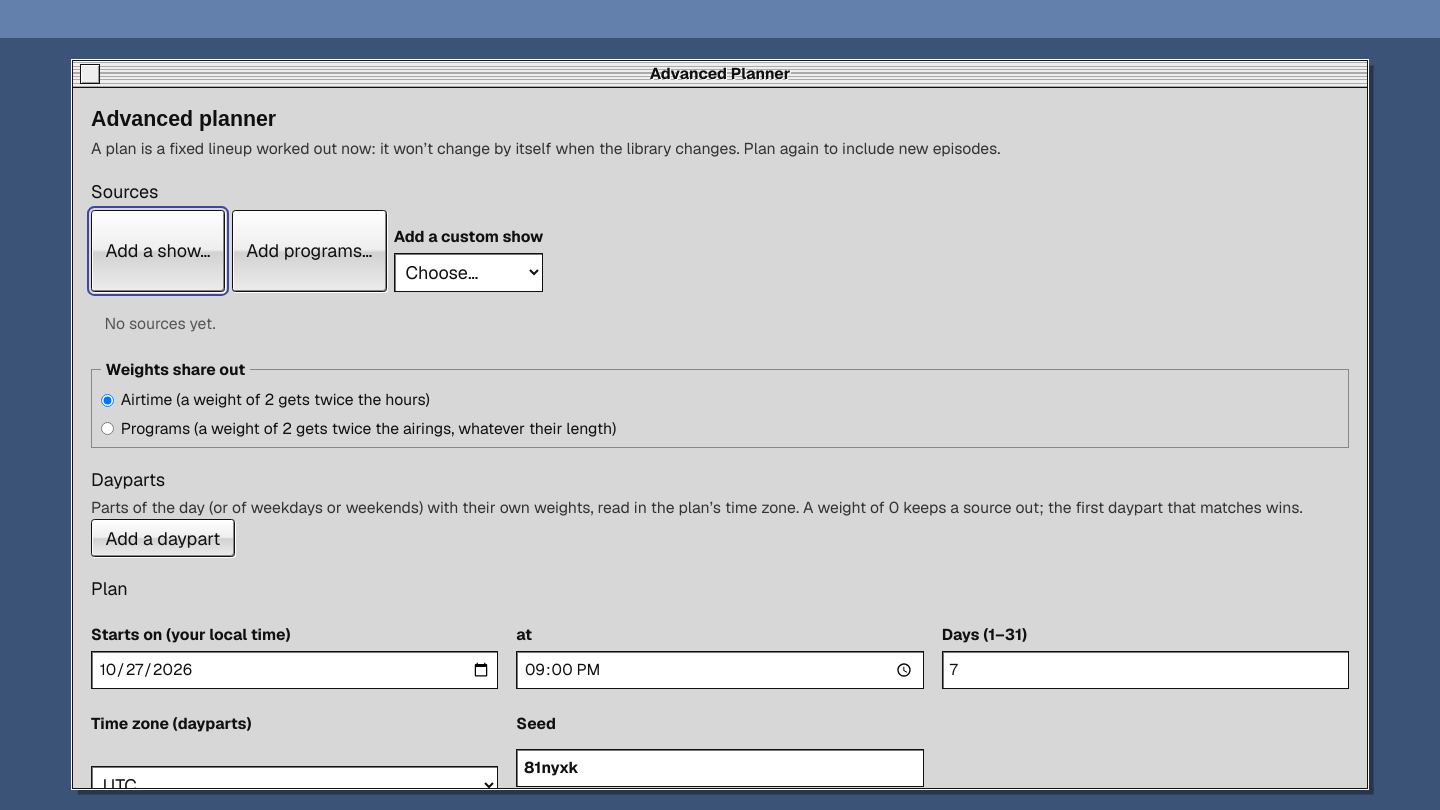
Test: PlannerDialog › explains and refuses to save a plan the limit cut short
Select "Sitcoms" in the dropdown labelled "Add a custom show" at (469, 273), box [394,253,543,292]
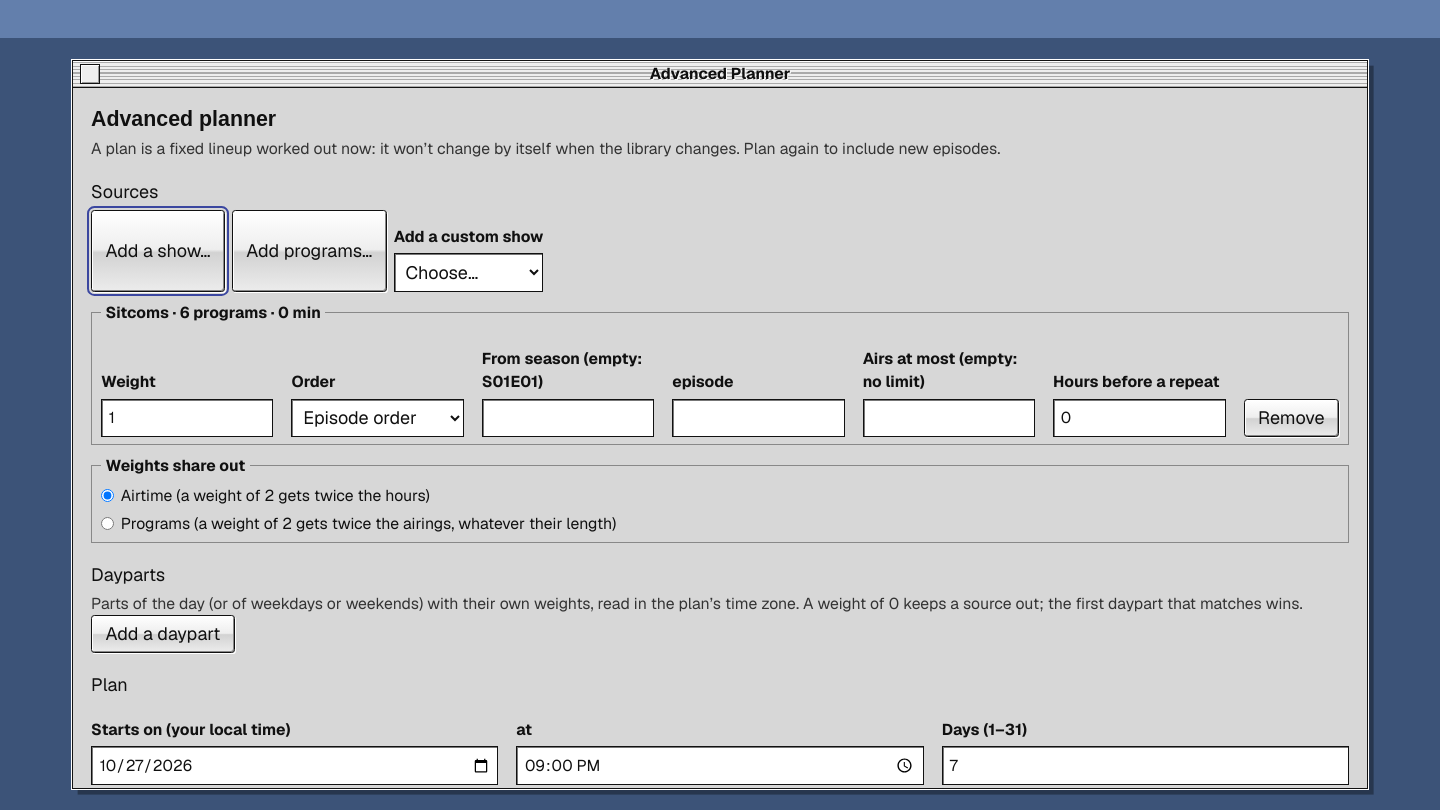
Check: the element "Sitcoms" is shown, box [91,301,1349,445]
Replace the text in the number field named "Days to plan" with "31" at (1145, 766), box [942,746,1349,785]
(page scrolled)
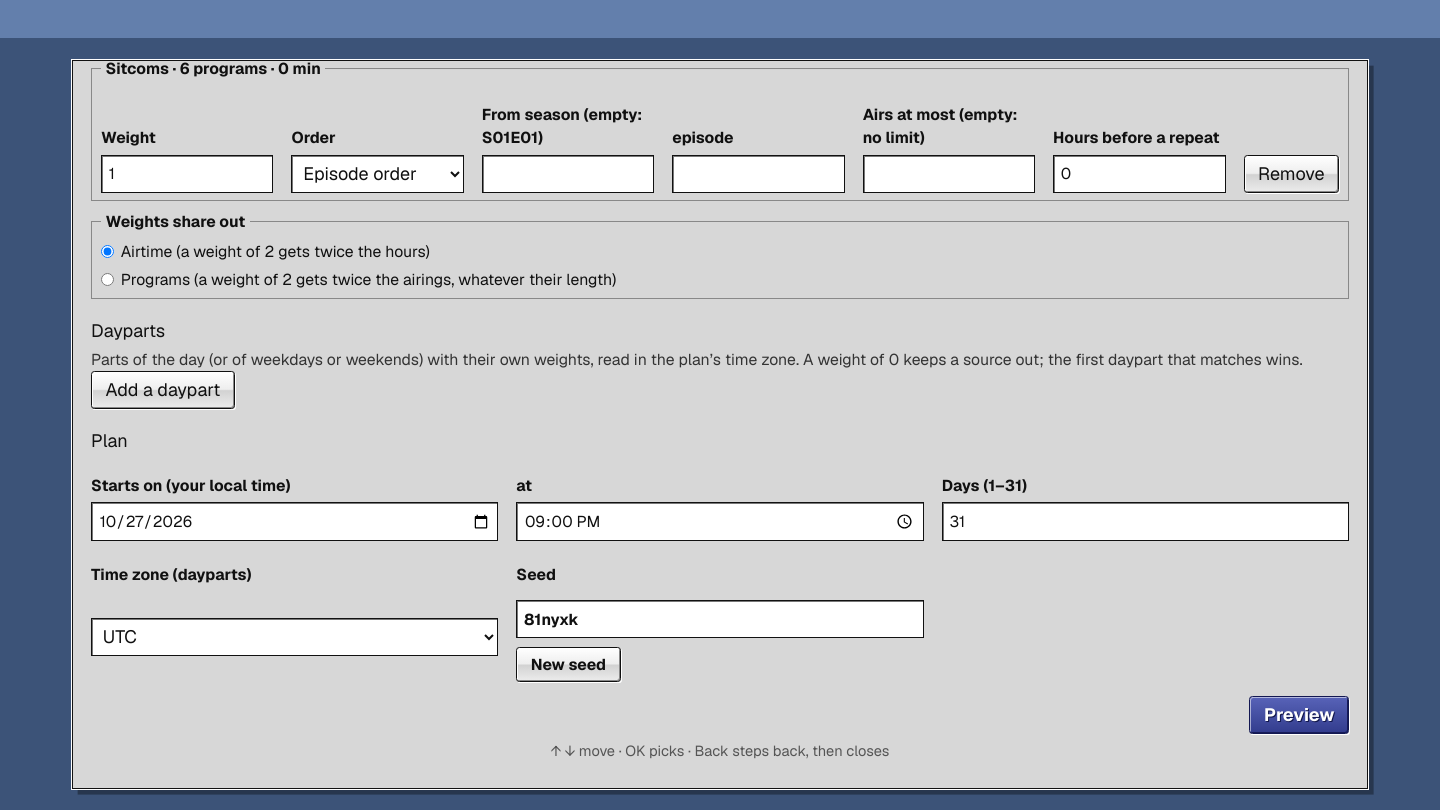
Click the button "Preview" at (1299, 715), box [1249,696,1349,734]
(page scrolled)
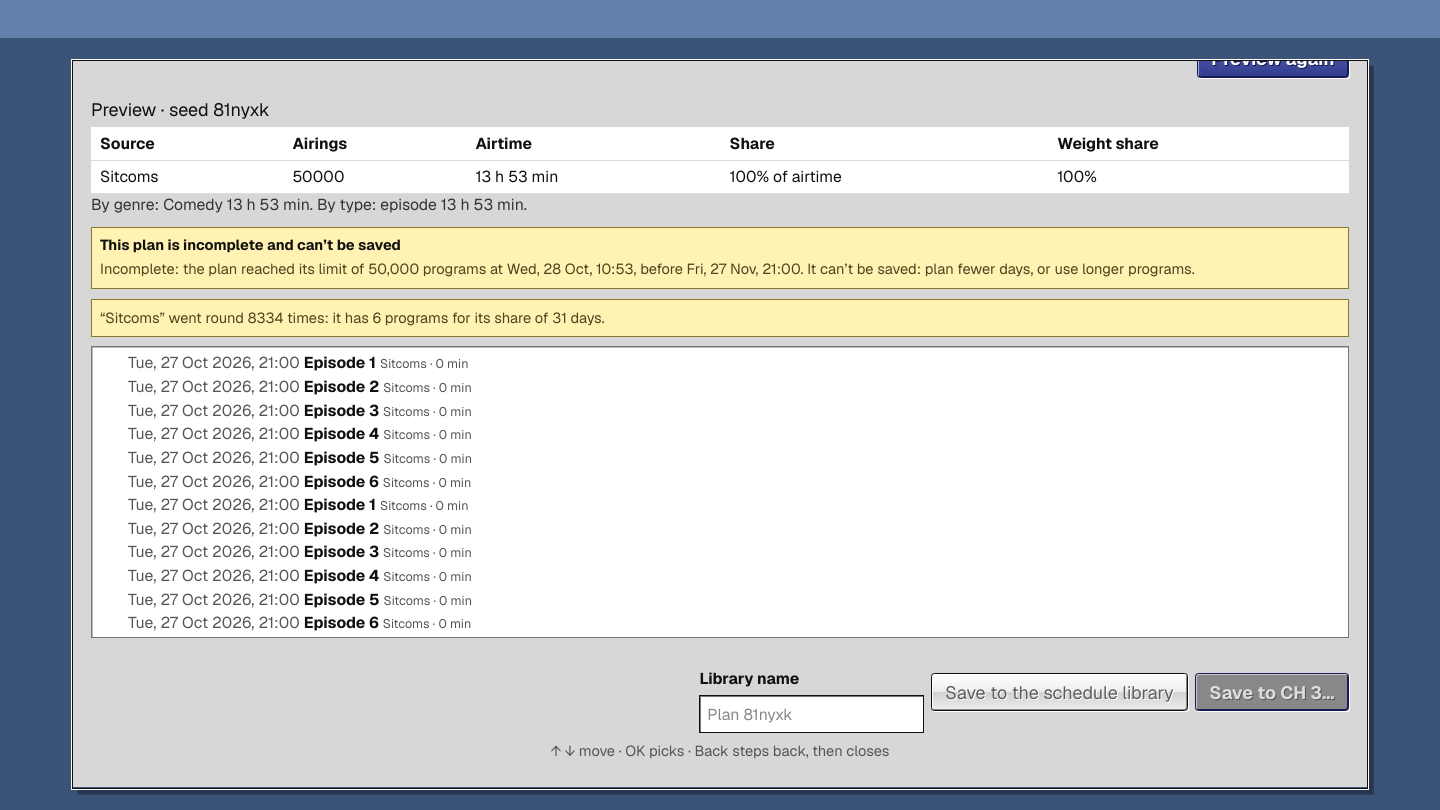
Check: the button "Save to CH 3…" is disabled, box [1195,673,1349,711]
Check: the button "Save to the schedule library" is disabled, box [931,673,1188,711]
